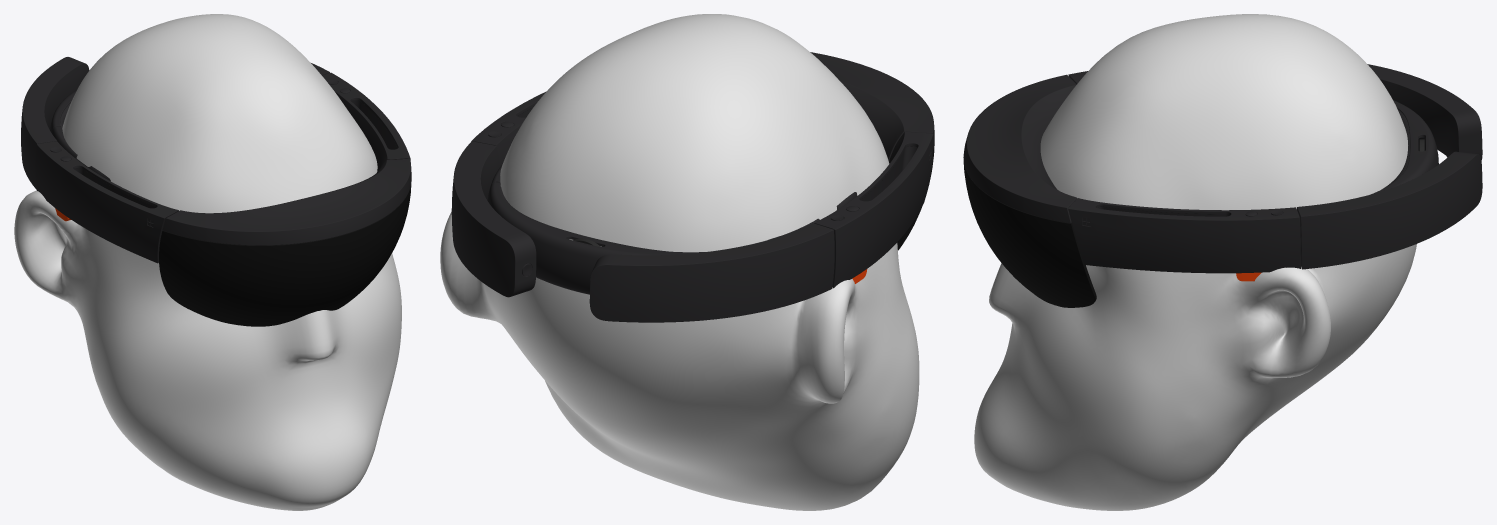
3 renders of one model, left to right at view 1: azimuth 30°, elevation 25°; view 2: azimuth 150°, elevation 25°; view 3: azimuth 270°, elevation 25°, orthographic. The views are drawn at different scales.
Visible parts, largest first — view 1: node_id30_2, node_id47_5, node_id45_4; view 2: node_id30_2, node_id47_5; view 3: node_id30_2, node_id47_5, node_id45_4.
Boxes of the visible parts, x1,y1,x2,y2 form: node_id30_2: (14, 14, 401, 510); node_id47_5: (21, 57, 411, 263); node_id45_4: (159, 184, 411, 326); node_id30_2: (440, 14, 919, 510); node_id47_5: (451, 52, 934, 322); node_id30_2: (974, 14, 1416, 510); node_id47_5: (963, 64, 1482, 281); node_id45_4: (963, 162, 1096, 307).
Size of the model in its own units: 0.3931 by 0.4761 by 0.4883.
Materials: 4 (4 with a texture image).
